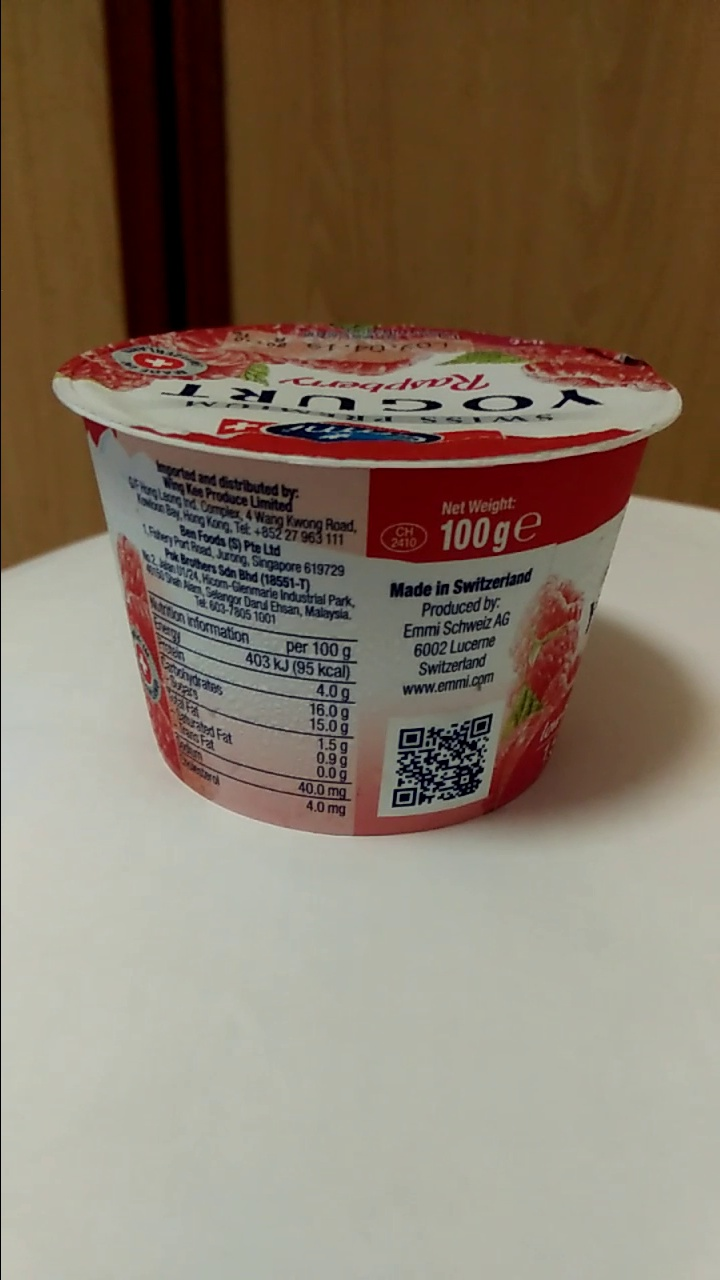yogurt: (54, 321, 664, 835)
